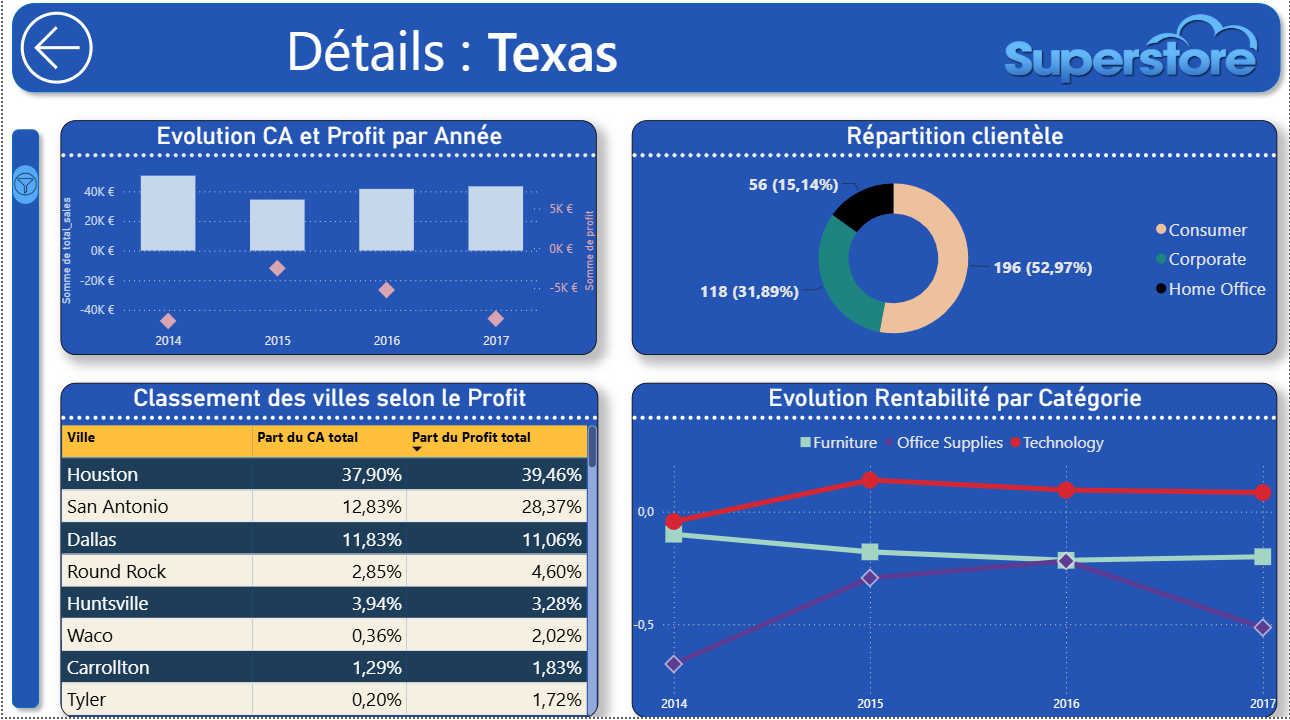

What the dashboard file says about the page in this screenshot:
{"tool":"powerbi","page":{"name":"Détails par états","canvas":[1280,720],"ordinal":1},"visuals":[{"type":"shape","box":[0,0,1280.3,107],"z":0},{"type":"image","box":[993.5,11,258,86.4],"z":1000},{"type":"actionButton","box":[0,0,114,107.2],"z":2000},{"type":"cardVisual","title":"Etat","fields":{"Data":["Min(df_dim_location.state)"]},"box":[452.5,0,611.2,107.5],"z":3000},{"type":"lineChart","title":"Evolution Rentabilité par Catégorie","fields":{"Category":["Calendrier.Date.Variation.Hiérarchie de dates.Année"],"Series":["df_dim_product.category"],"Y":["Mesure.Taux de rentabilité"]},"box":[625.7,387,642.2,333.4],"z":4000},{"type":"tableEx","title":"Classement des villes selon le Profit","fields":{"Values":["df_dim_location.city","Sum(df_facts.total_sales)","Sum(df_facts.profit)"]},"box":[57.2,386.9,534.9,333.4],"z":5000},{"type":"donutChart","title":"Répartition clientèle","fields":{"Category":["df_dim_customer.segment"],"Y":["Count(df_facts.customer_id)"]},"box":[625.7,126.2,642.2,233.3],"z":6000},{"type":"lineClusteredColumnComboChart","title":"Evolution CA et Profit par Année","fields":{"Category":["Calendrier.Date.Variation.Hiérarchie de dates.Année"],"Y":["Sum(df_facts.total_sales)"],"Y2":["Sum(df_facts.profit)"]},"box":[57.2,125.6,533.7,233.9],"z":9000},{"type":"textbox","box":[276.2,13.8,300,83.8],"z":10000},{"type":"shape","box":[0,126,44.8,594],"z":10500},{"type":"image","box":[10,170,25,38],"z":11000}]}

Visuals, with their boxes in screenshot pixels (x1, y1, x2, y2), scaled from the page's 1280x720 canvas onto the 1290x720 screenshot:
shape: x1=0, y1=0, x2=1289, y2=107
image: x1=1001, y1=11, x2=1261, y2=97
actionButton: x1=0, y1=0, x2=115, y2=107
"Etat" cardVisual: x1=456, y1=0, x2=1072, y2=108
"Evolution Rentabilité par Catégorie" lineChart: x1=631, y1=387, x2=1278, y2=719
"Classement des villes selon le Profit" tableEx: x1=58, y1=387, x2=597, y2=719
"Répartition clientèle" donutChart: x1=631, y1=126, x2=1278, y2=360
"Evolution CA et Profit par Année" lineClusteredColumnComboChart: x1=58, y1=126, x2=596, y2=360
textbox: x1=278, y1=14, x2=581, y2=98
shape: x1=0, y1=126, x2=45, y2=719
image: x1=10, y1=170, x2=35, y2=208
